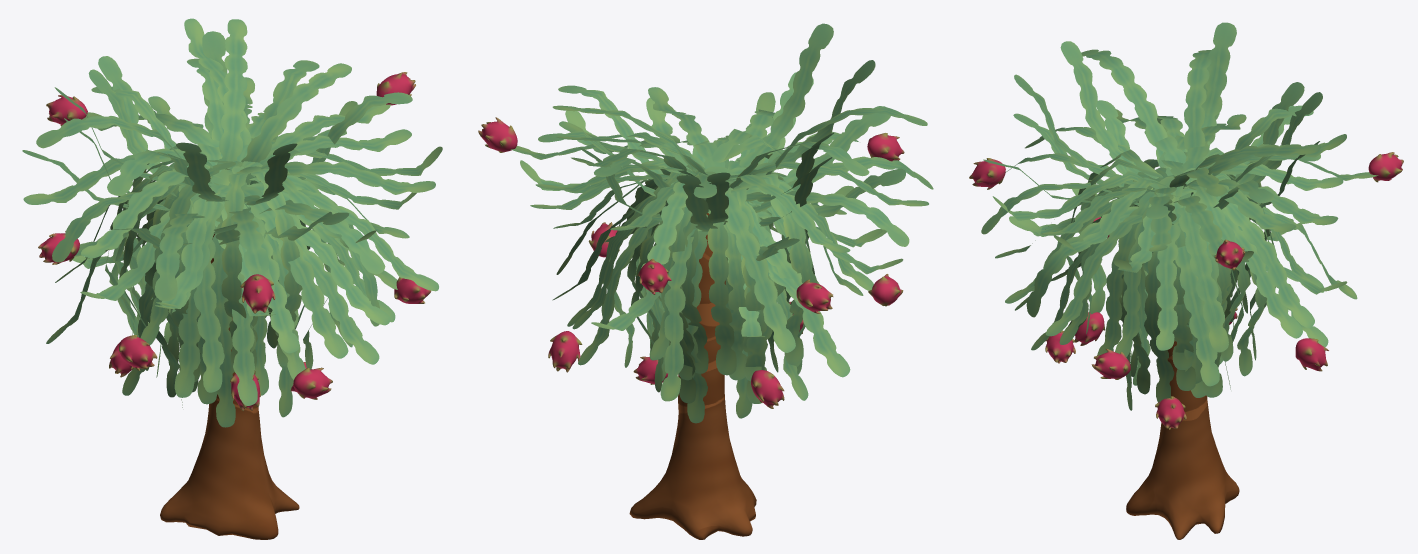
File: Pitaya_LOD0.fbx
3 views of the same model, side by side, from view 1: azimuth 30°, elevation 25°; view 2: azimuth 150°, elevation 25°; view 3: azimuth 270°, elevation 25° (orthographic). The views are drawn at different scales.
Parts seen in each view (by area): view 1: Pitaya_LOD_pres; view 2: Pitaya_LOD_pres; view 3: Pitaya_LOD_pres.
Boxes of the visible parts, x1=… form: Pitaya_LOD_pres: x1=22, y1=18, x2=442, y2=539; Pitaya_LOD_pres: x1=478, y1=23, x2=933, y2=539; Pitaya_LOD_pres: x1=969, y1=22, x2=1403, y2=539.
Bounding box in the file's own units: 19.88 × 21.55 × 19.96.
